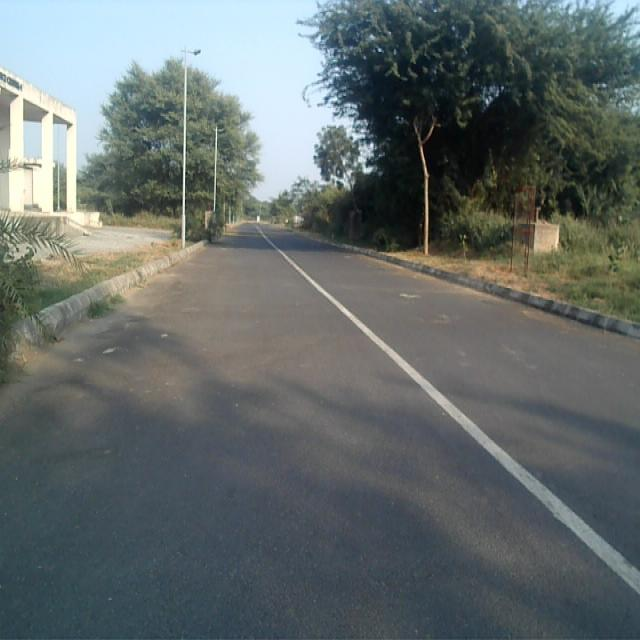lane: (0, 226, 640, 640)
